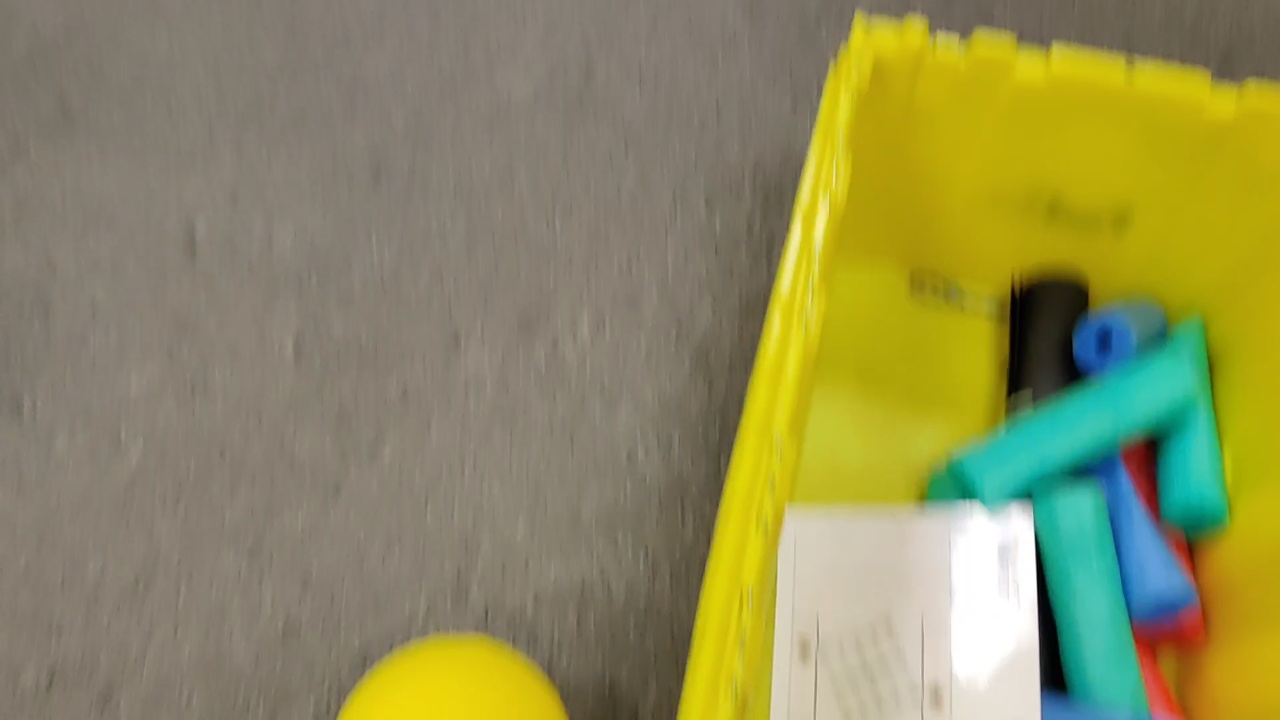Ball: (335, 633, 569, 720)
